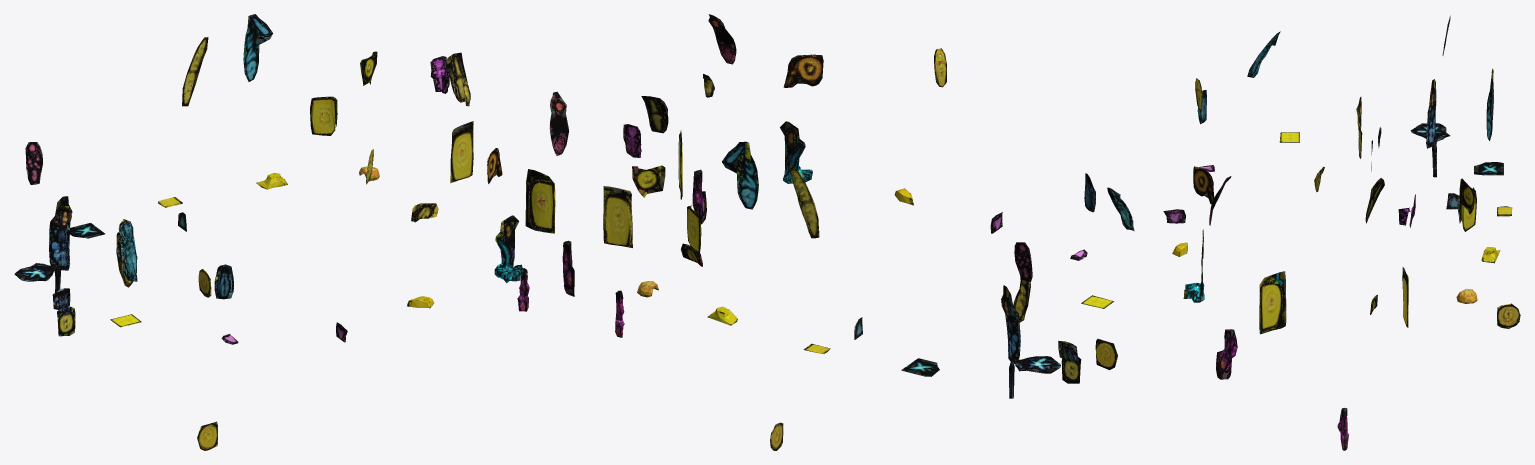
File: COMMON_사물_vfx_currency_collect_ntd.glb
3 views of the same model, side by side, from view 1: azimuth 30°, elevation 25°; view 2: azimuth 150°, elevation 25°; view 3: azimuth 270°, elevation 25° (orthographic). The views are drawn at different scales.
Parts seen in each view (by area): view 1: world; view 2: world; view 3: world.
Part boxes in pixels (x1,y1,x2,y2): world: (14, 14, 574, 450); world: (603, 14, 1134, 450); world: (1163, 15, 1520, 450).
Bounding box in the file's own units: 0.9784 × 0.5817 × 0.6757.
Materials: 1 (1 with a texture image).
